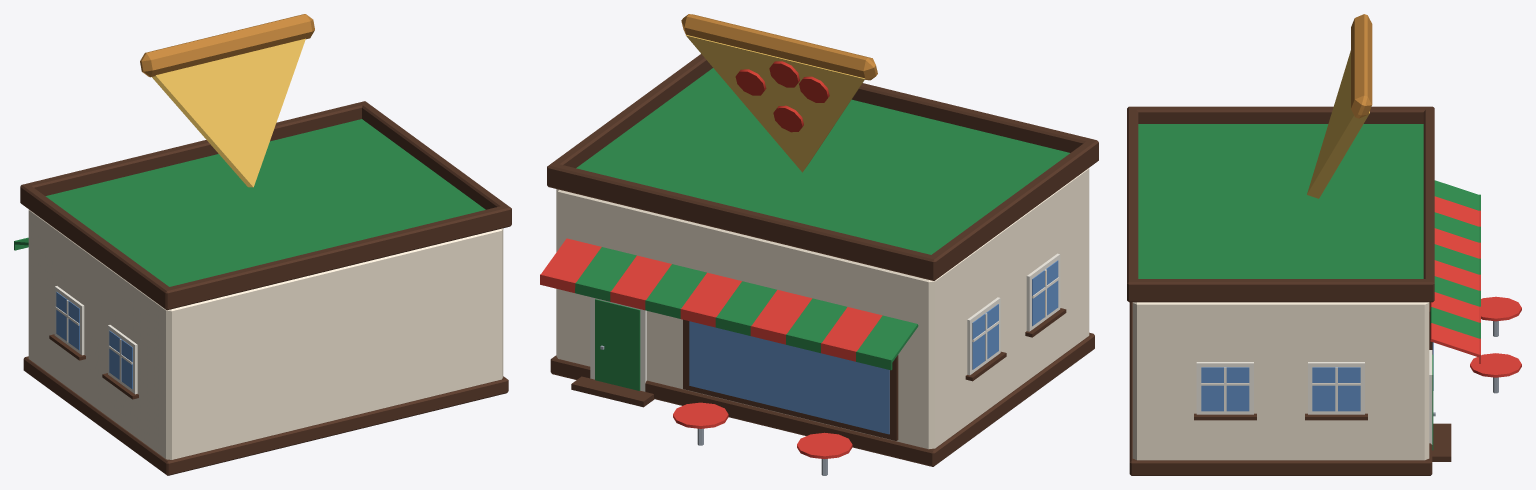
The model's file is bld_pizza.glb.
3 views of the same model, side by side, from view 1: azimuth 30°, elevation 25°; view 2: azimuth 150°, elevation 25°; view 3: azimuth 270°, elevation 25° (orthographic). The views are drawn at different scales.
Visible parts, largest first — view 1: bld_pizza; view 2: bld_pizza; view 3: bld_pizza.
Part boxes in pixels (x1,y1,x2,y2): bld_pizza: (14, 14, 511, 475); bld_pizza: (540, 14, 1098, 475); bld_pizza: (1127, 14, 1521, 475).
Bounding box in the file's own units: 11.42 × 10.03 × 10.65.
